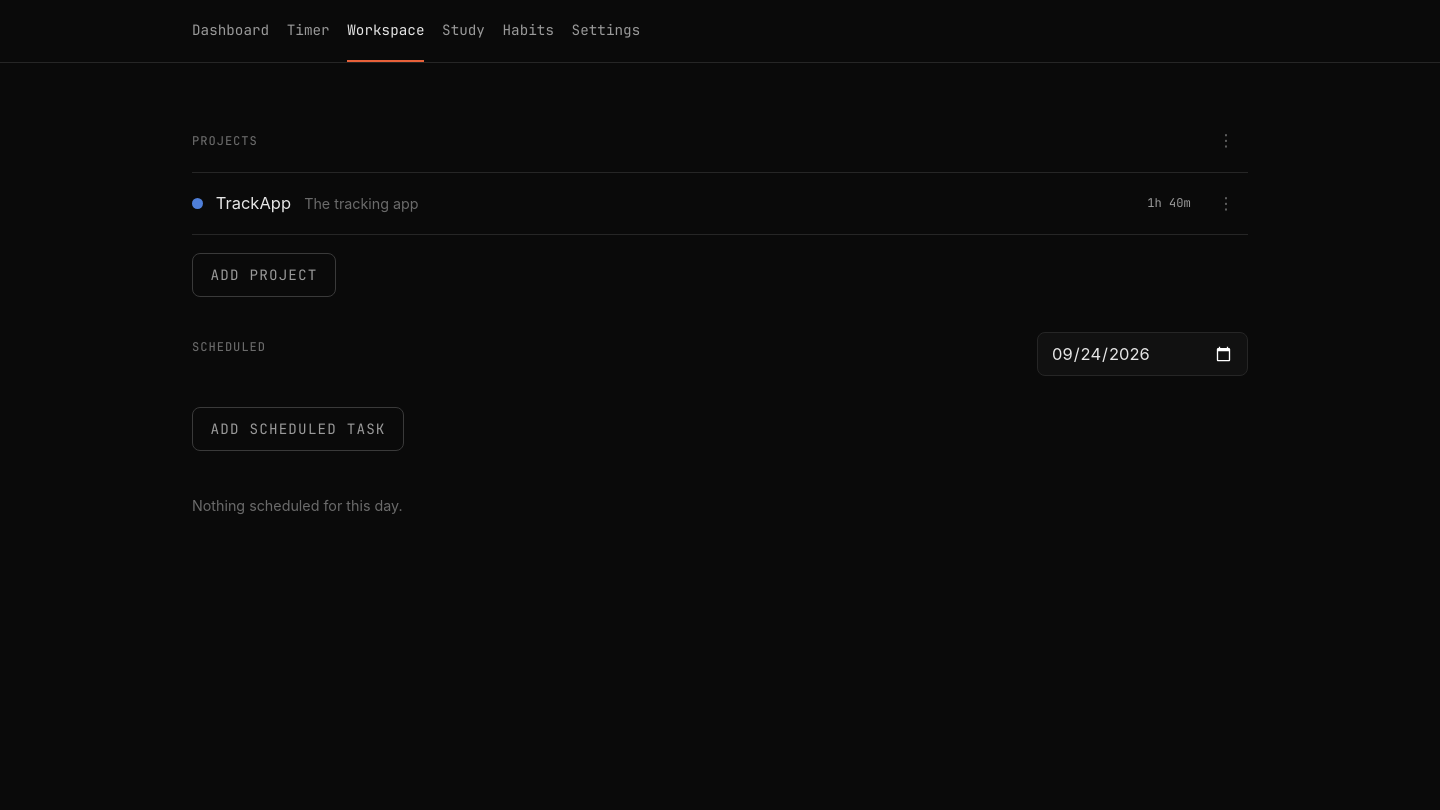
Test: editing a project › saves the changes and shows them
Click the button named "more trackapp": [1226, 203] box [1204, 186, 1248, 221]
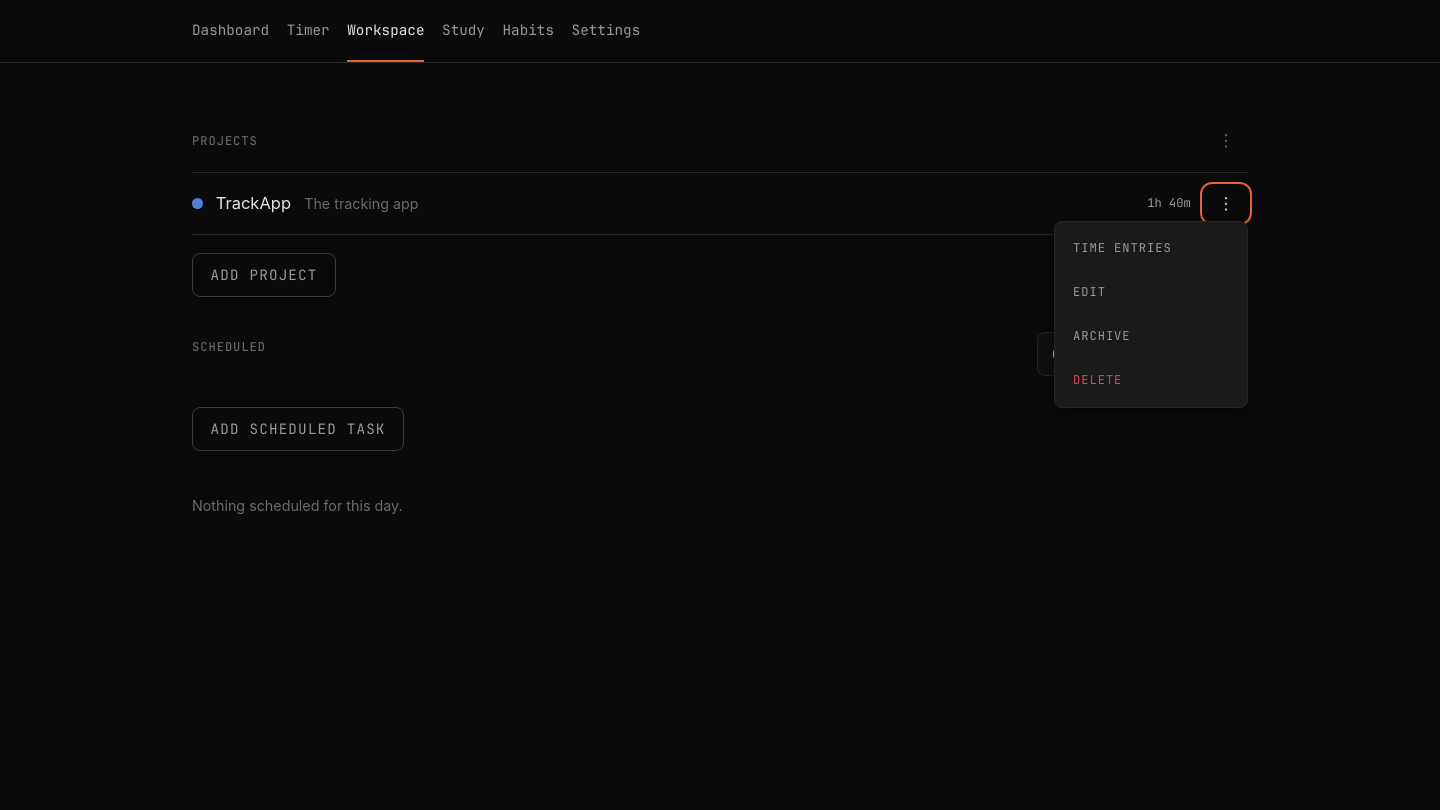
Click the button "Edit": [1151, 292] box [1060, 270, 1243, 314]
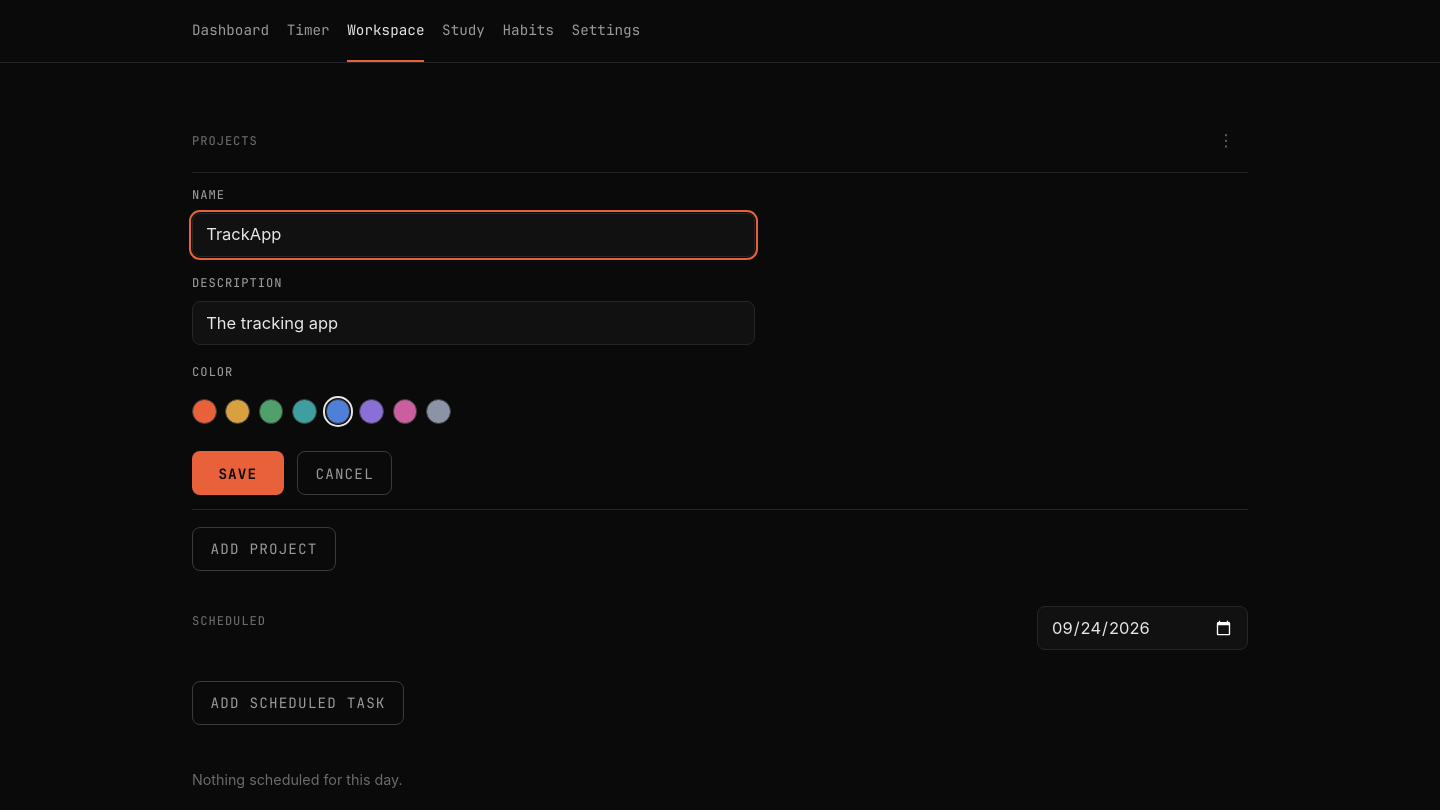
Check: the field labelled "Name" holds "TrackApp"
Replace the text in the field labelled "Name" with "TrackApp v2": [474, 235] box [192, 213, 755, 257]
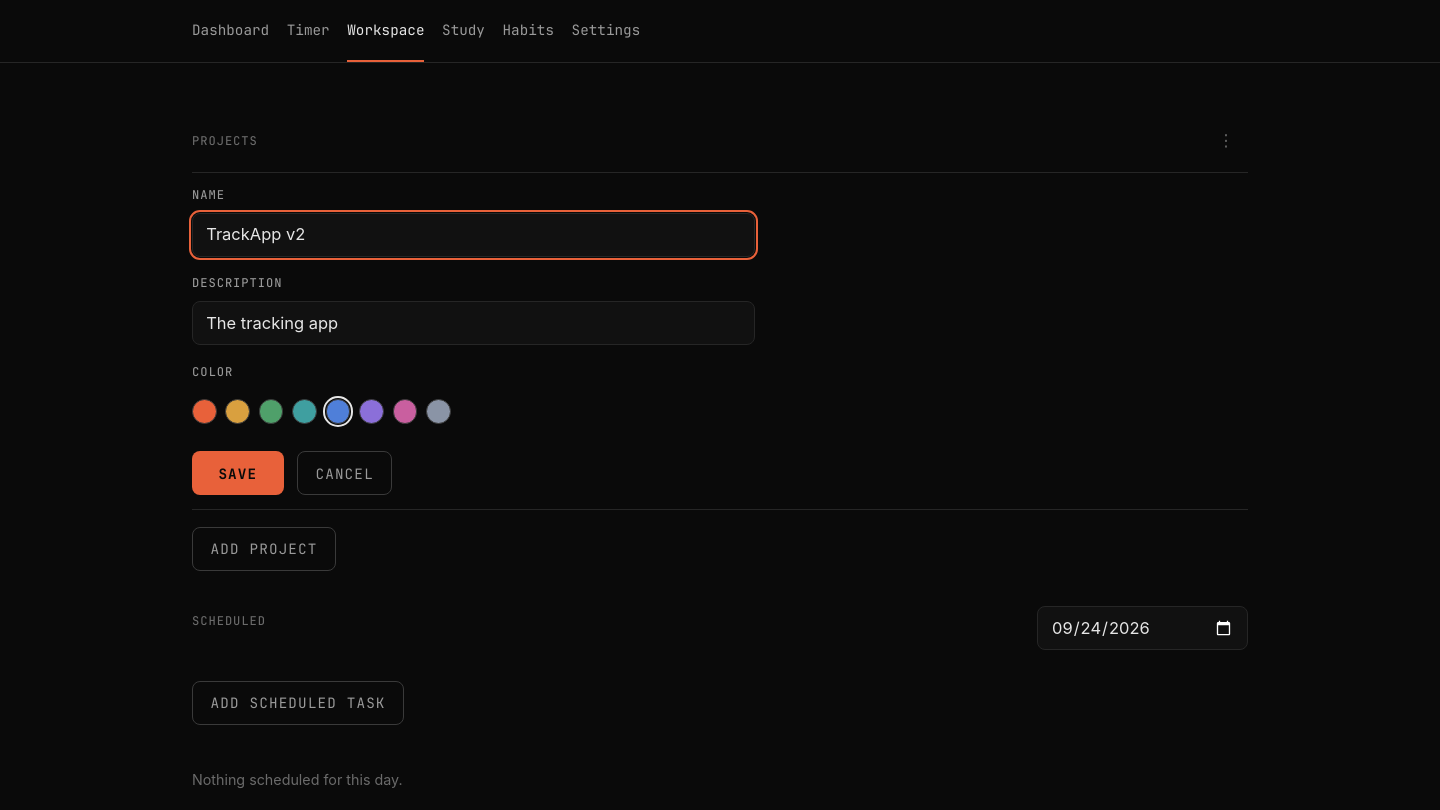
Click the button "Save": [238, 473] box [192, 451, 284, 495]
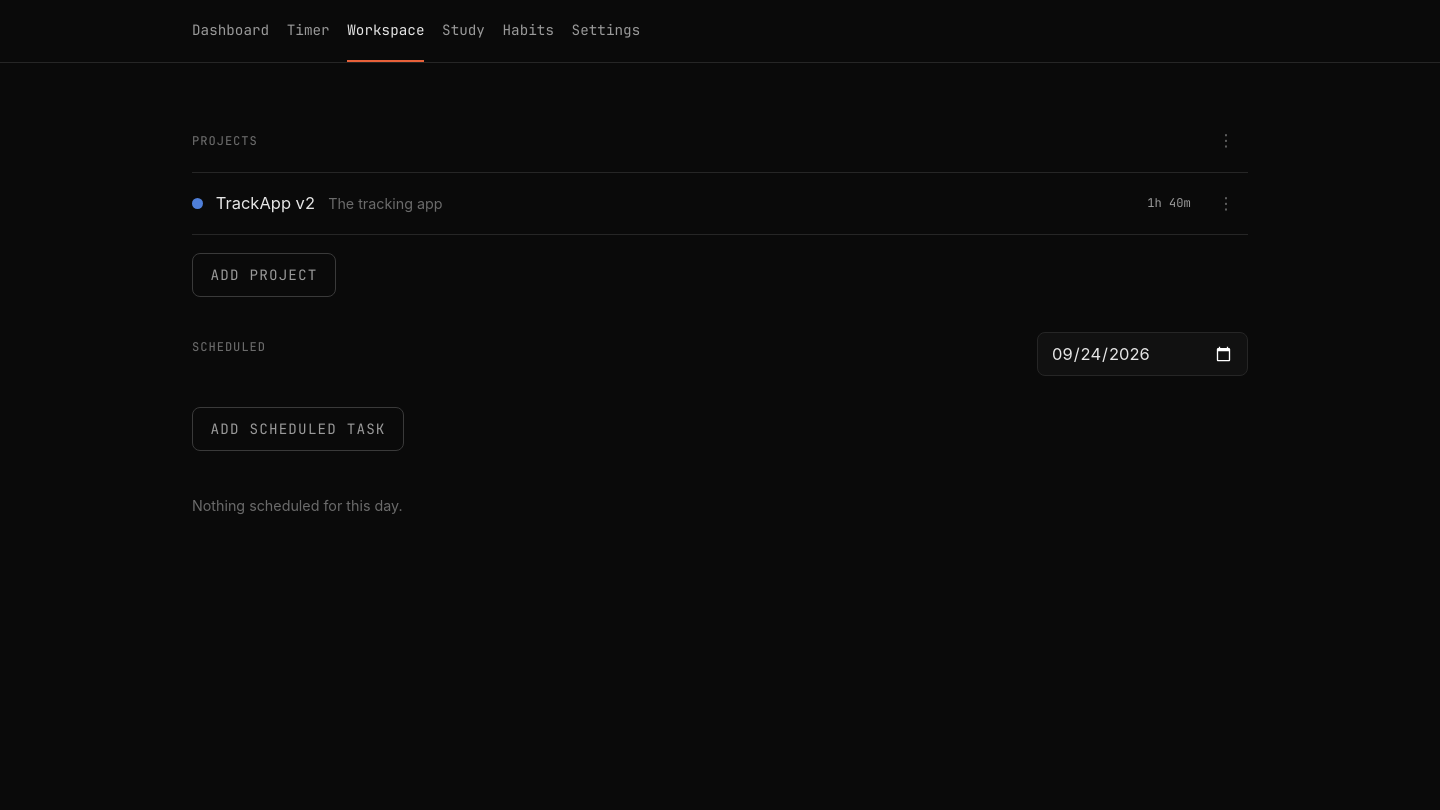
Check: the text "TrackApp v2" is shown, box [216, 191, 315, 216]
